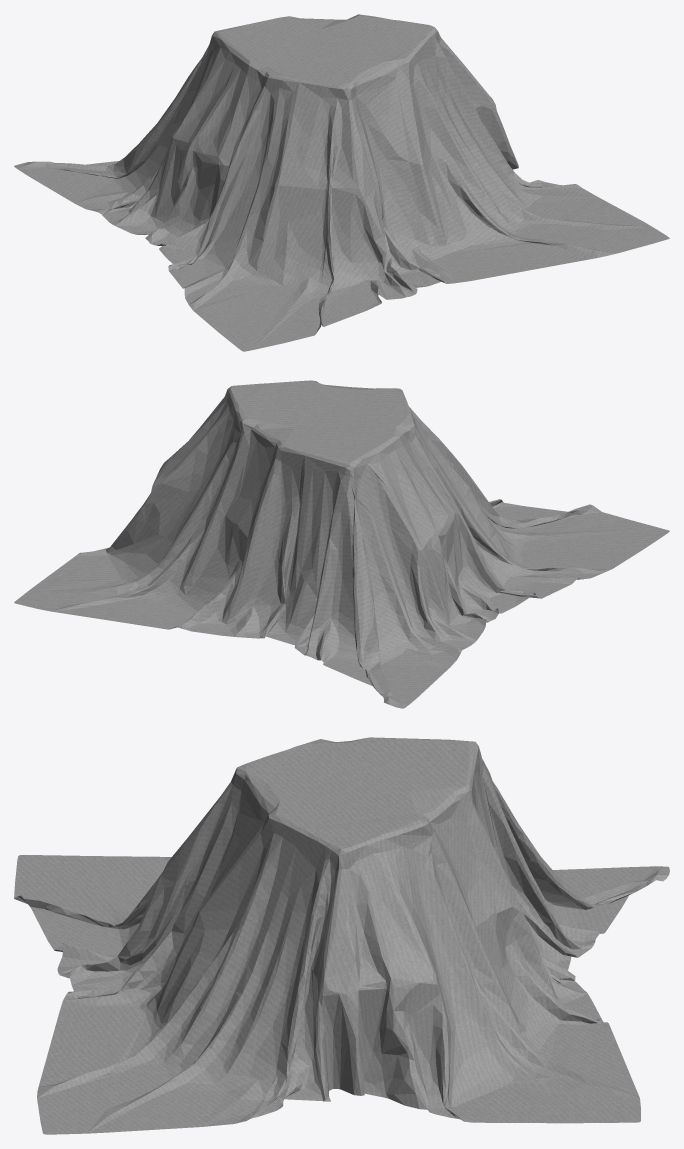
File: Cover5.fbx
3 views of the same model, one above another, from view 1: azimuth 30°, elevation 25°; view 2: azimuth 150°, elevation 25°; view 3: azimuth 270°, elevation 25° (orthographic). The views are drawn at different scales.
Parts seen in each view (by area): view 1: Plane.026; view 2: Plane.026; view 3: Plane.026.
Part boxes in pixels (box(x1,y1,x2,y2)): Plane.026: box(14, 14, 669, 351); Plane.026: box(14, 380, 669, 708); Plane.026: box(14, 737, 669, 1134).
Bounding box in the file's own units: 587 × 204 × 582.
1 material, 1 textured.
